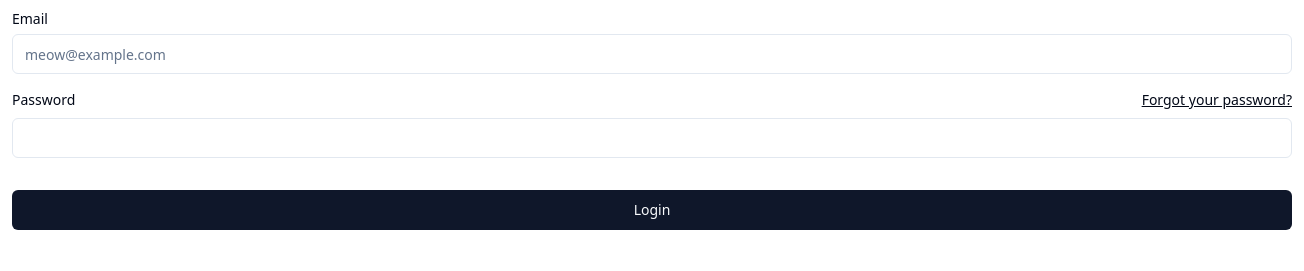
Test: EmailLogIn Component › displays error message on failed login
Note: Fill out form fields
Type "test@example.com" into the field labelled "Email" at [652, 54], box [12,34,1292,74]
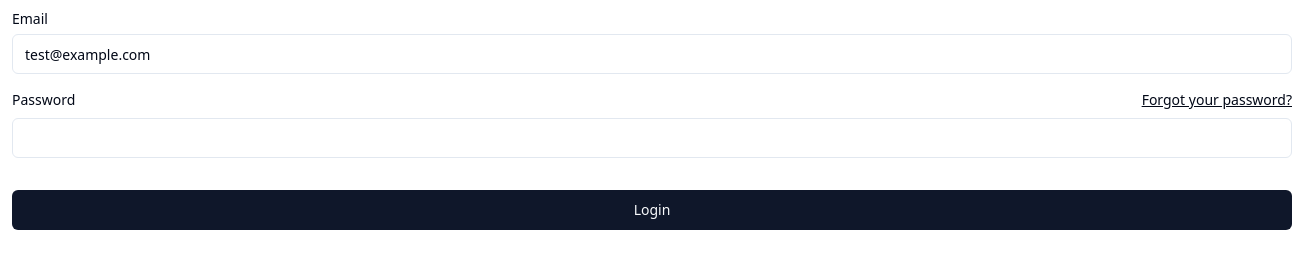
Type "password123" into the password field labelled "Password" at [652, 138], box [12,118,1292,158]
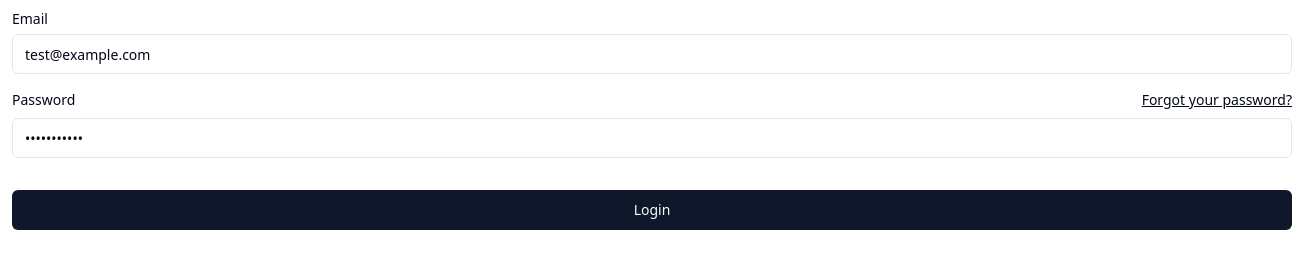
Note: Submit the form
Click the button "Login" at [652, 210], box [12,190,1292,230]
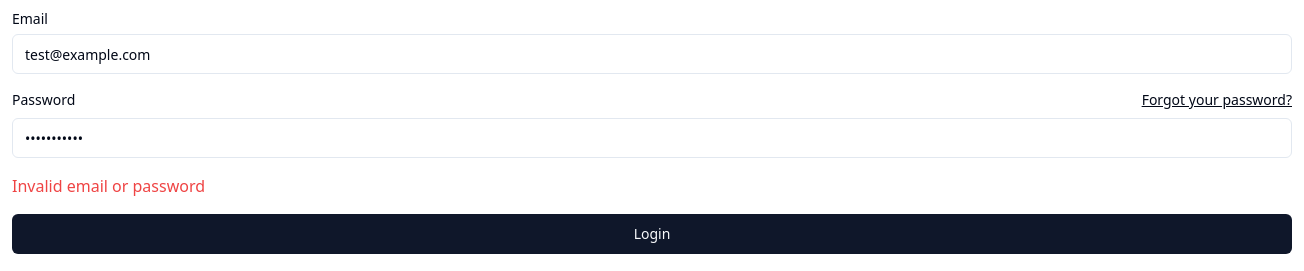
Expected: the text "Invalid email or password" is shown, [12,175,205,197]
